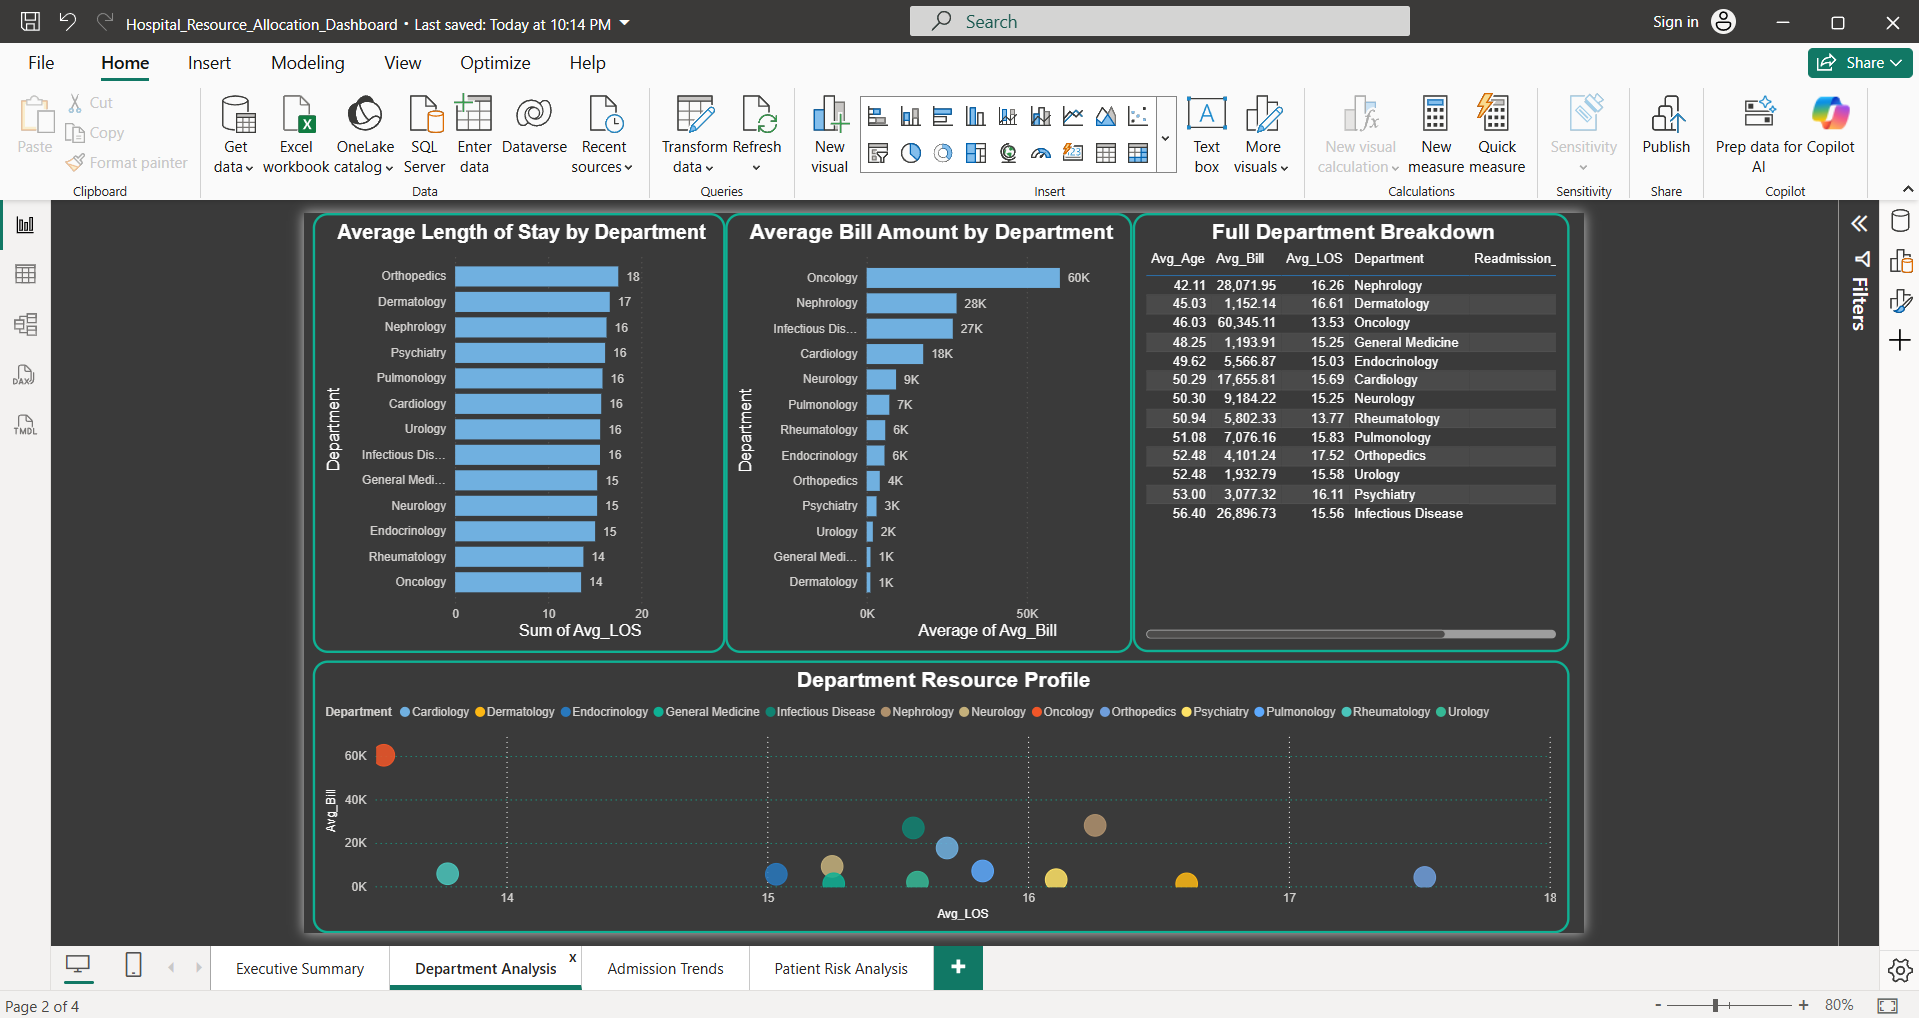

The dashboard page shown, as its layout file describes it:
{"tool":"powerbi","page":{"name":"Department Analysis","canvas":[1280,720],"ordinal":1},"visuals":[{"type":"clusteredBarChart","title":"Average Length of Stay by Department","fields":{"Category":["Dept Summary.Department"],"Y":["Sum(Dept Summary.Avg_LOS)"]},"box":[8.9,0,412.9,439.6],"z":0},{"type":"clusteredBarChart","title":"Average Bill Amount by Department","fields":{"Category":["Dept Summary.Department"],"Y":["Avg(Dept Summary.Avg_Bill)"]},"box":[421.8,0,407.6,439.6],"z":1},{"type":"scatterChart","title":"Department Resource Profile","fields":{"Series":["Dept Summary.Department"],"Size":["CountNonNull(Dept Summary.Total_Admissions)"],"X":["Dept Summary.Avg_LOS"],"Y":["Dept Summary.Avg_Bill"]},"box":[8.4,447.6,1257.1,272.7],"z":2},{"type":"tableEx","title":"Full Department Breakdown","fields":{"Values":["Dept Summary.Avg_Age","Dept Summary.Avg_Bill","Dept Summary.Avg_LOS","Dept Summary.Department","Dept Summary.Readmission_Rate","Dept Summary.Total_Admissions"]},"box":[828.8,0,436.7,439.1],"z":3}]}

Visuals, with their boxes on the page's 1280x720 design canvas (x1, y1, x2, y2). These are canvas units, not pixel positions in the 1919x1018 screenshot, which may show the page scaled, cropped or inside an application window:
"Average Length of Stay by Department" clusteredBarChart: box=[9, 0, 422, 440]
"Average Bill Amount by Department" clusteredBarChart: box=[422, 0, 829, 440]
"Department Resource Profile" scatterChart: box=[8, 448, 1266, 720]
"Full Department Breakdown" tableEx: box=[829, 0, 1266, 439]
